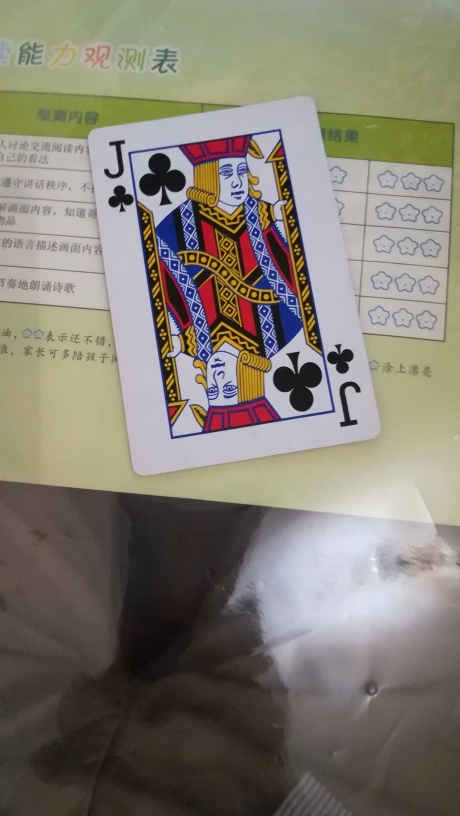mh j: (82, 95, 383, 478)
